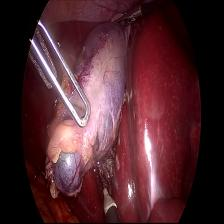Grasper: (26, 16, 94, 136), (108, 1, 147, 28)
Hook: (95, 179, 120, 218)
